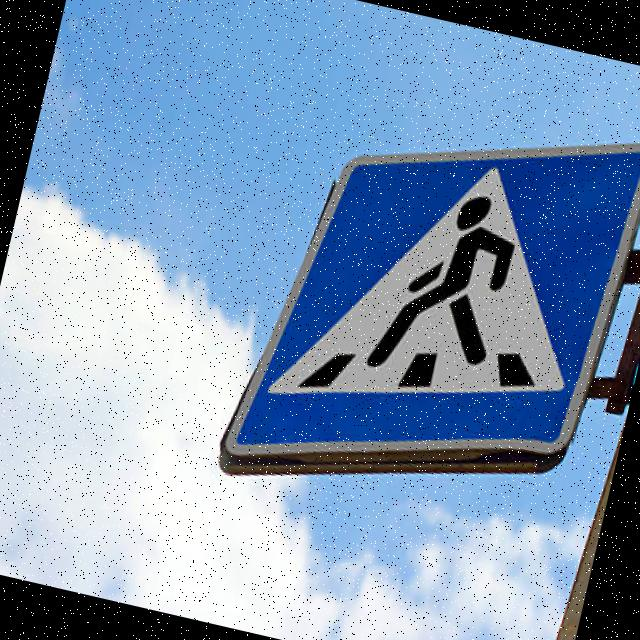crosswalk: (190, 34, 640, 561)
